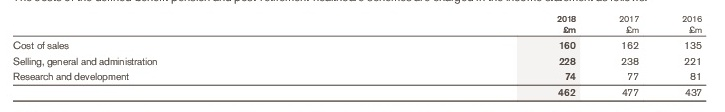table: (0, 0, 725, 112)
